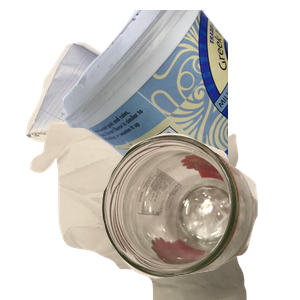glass: (98, 131, 300, 300)
paper: (23, 40, 223, 180)
plastic: (60, 10, 300, 190)
trash: (28, 120, 267, 300)
